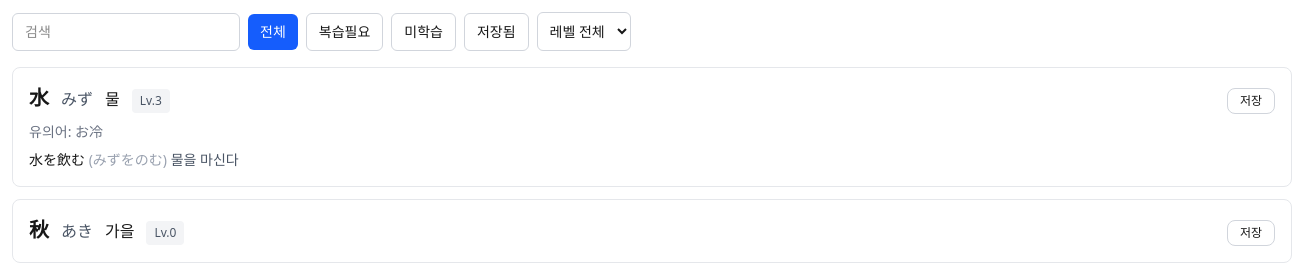
Test: WordCardList › '미학습' 필터를 누르면 미학습 카드만 남는다
The image size is (1292, 280).
Click the button "미학습".
click(424, 32)  # box 391,12 -> 456,50
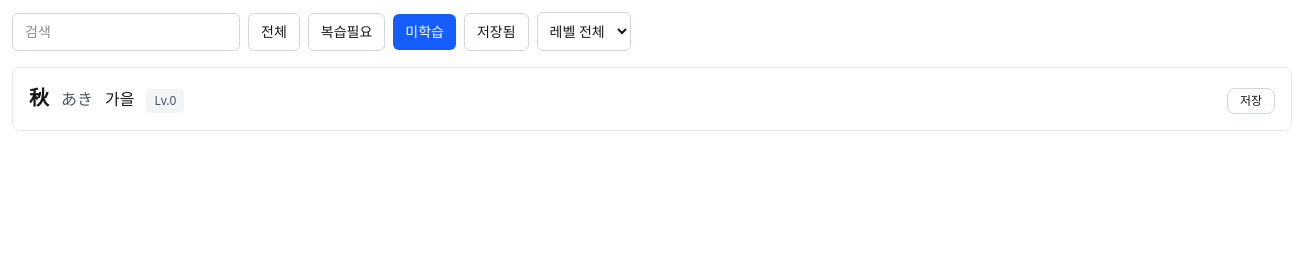
Check: the text "秋" is shown, box 29,84 -> 49,112
Check: the text "水" is gone
